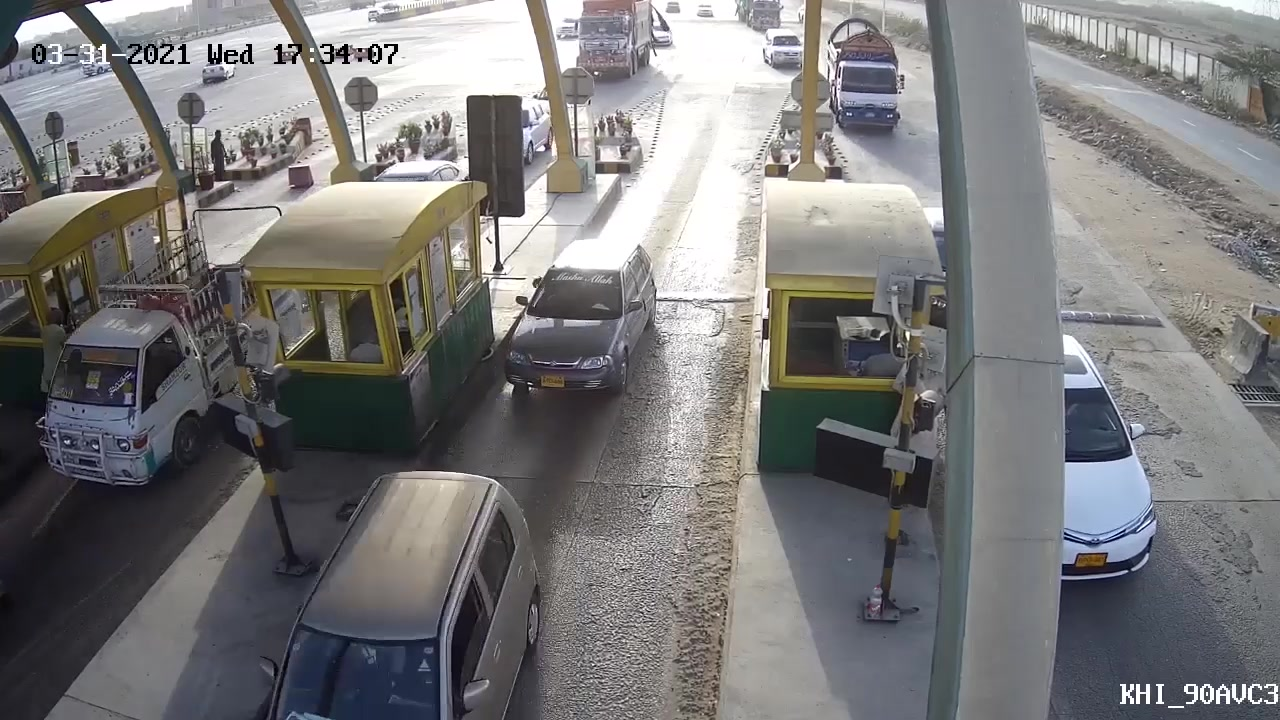F1: (503, 239, 651, 401)
